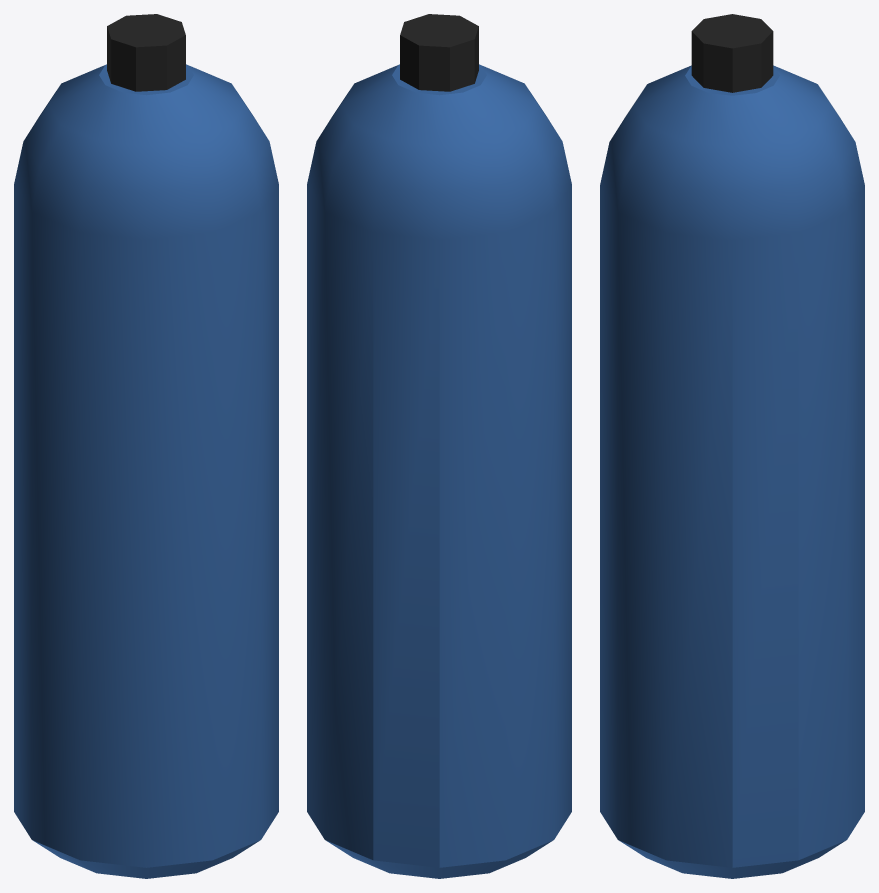
File: WaterBottle_1.fbx
3 views of the same model, side by side, from view 1: azimuth 30°, elevation 25°; view 2: azimuth 150°, elevation 25°; view 3: azimuth 270°, elevation 25° (orthographic).
Parts seen in each view (by area): view 1: WaterBottle_1; view 2: WaterBottle_1; view 3: WaterBottle_1.
Boxes of the visible parts, <box> form: WaterBottle_1: <box>14,14,278,878</box>; WaterBottle_1: <box>307,14,571,878</box>; WaterBottle_1: <box>600,14,864,878</box>.
Size of the model in its own units: 55.11 by 55.11 by 185.
